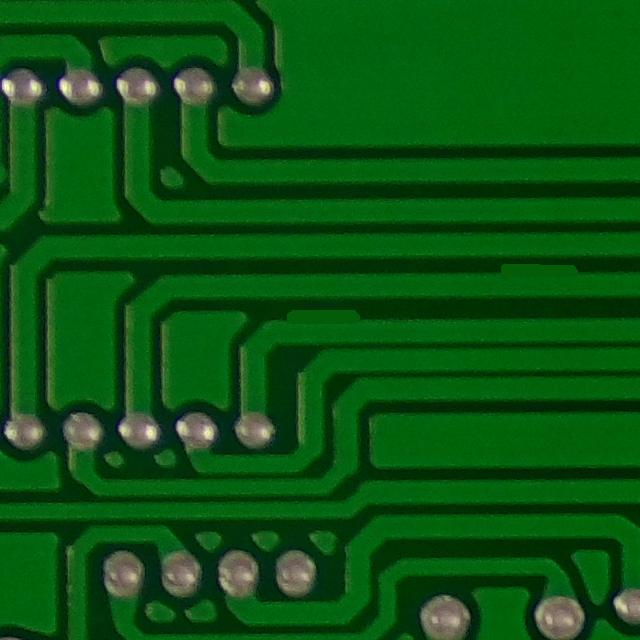spur: (271, 297, 369, 343)
